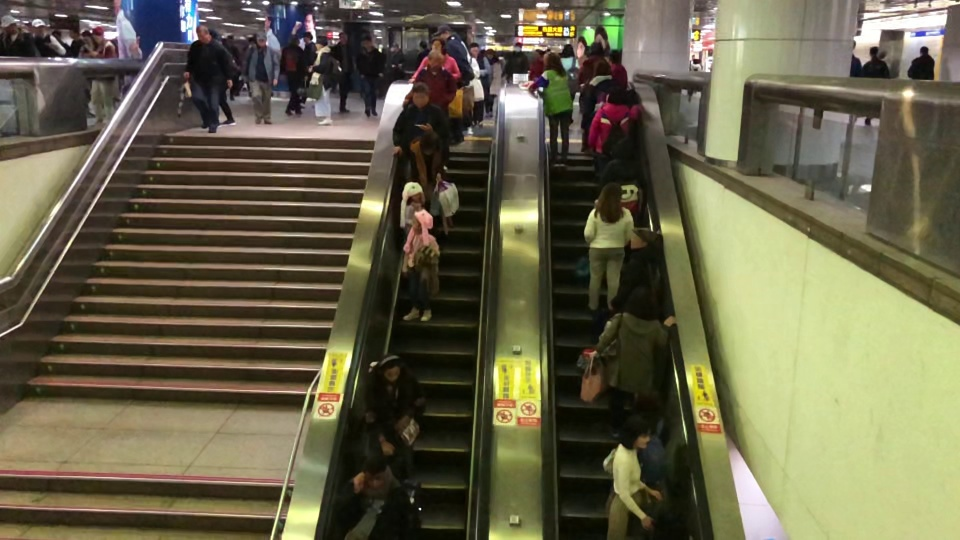person_head: (624, 284, 659, 320), (619, 414, 651, 450), (362, 454, 387, 492), (633, 388, 662, 418), (376, 353, 403, 384), (597, 181, 623, 212), (611, 136, 637, 162), (418, 129, 441, 158), (630, 226, 656, 250), (409, 209, 433, 235), (605, 83, 629, 105), (411, 82, 430, 108), (404, 181, 424, 203), (592, 58, 613, 78), (427, 47, 444, 71), (0, 14, 17, 36), (432, 23, 452, 41), (544, 51, 561, 72), (195, 23, 211, 43), (587, 40, 604, 57), (428, 36, 445, 53), (31, 18, 46, 36), (92, 26, 105, 45), (254, 31, 268, 48), (208, 27, 222, 43), (467, 42, 480, 58), (560, 44, 575, 57), (608, 49, 621, 63), (287, 33, 300, 47), (81, 29, 93, 44), (69, 25, 80, 41), (314, 38, 327, 51), (868, 44, 879, 59), (918, 44, 929, 58), (533, 48, 544, 61), (484, 48, 495, 61), (361, 35, 372, 48), (338, 31, 348, 45), (50, 30, 62, 41), (513, 41, 523, 54), (389, 41, 399, 52), (302, 32, 313, 42), (419, 40, 427, 50), (226, 35, 233, 46), (25, 21, 32, 30), (692, 57, 699, 64)
person_vbox: (589, 283, 678, 440), (363, 353, 428, 479), (331, 454, 421, 540), (604, 414, 663, 540), (581, 181, 635, 317), (517, 51, 573, 169), (182, 22, 233, 134), (585, 83, 645, 175), (606, 225, 663, 312), (389, 82, 452, 159), (597, 136, 648, 225), (432, 22, 468, 145), (400, 209, 439, 322), (576, 41, 612, 152), (401, 47, 457, 117), (633, 388, 670, 488), (242, 31, 279, 125), (82, 26, 117, 123), (579, 59, 623, 133), (208, 27, 237, 127), (409, 129, 448, 201), (407, 36, 461, 84), (354, 34, 384, 118), (861, 44, 891, 126), (279, 33, 307, 117), (307, 37, 333, 127), (461, 41, 485, 127), (331, 31, 354, 113), (467, 42, 491, 118), (559, 44, 580, 124), (398, 181, 426, 235), (0, 14, 35, 57), (31, 18, 66, 57), (299, 32, 317, 104), (484, 49, 502, 117), (501, 41, 529, 82), (223, 35, 240, 102), (907, 43, 936, 79), (608, 49, 628, 88), (387, 41, 405, 79), (688, 57, 702, 97), (50, 30, 70, 57), (528, 48, 544, 80), (414, 40, 429, 72), (68, 24, 82, 57), (78, 29, 93, 59), (849, 55, 863, 78), (22, 21, 32, 38)
